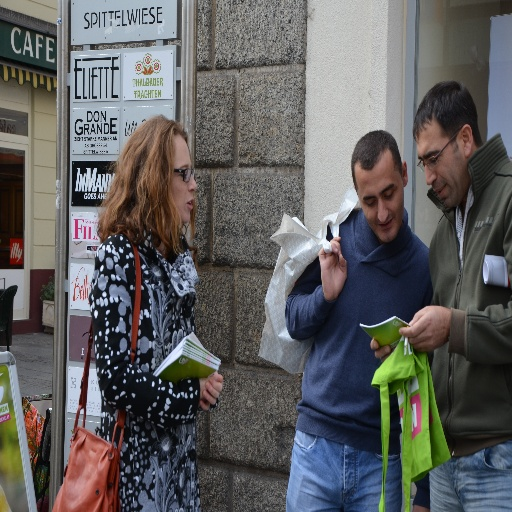hand: (407, 304, 455, 360), (318, 238, 349, 304), (198, 371, 224, 414), (369, 336, 395, 363), (200, 376, 213, 400)
